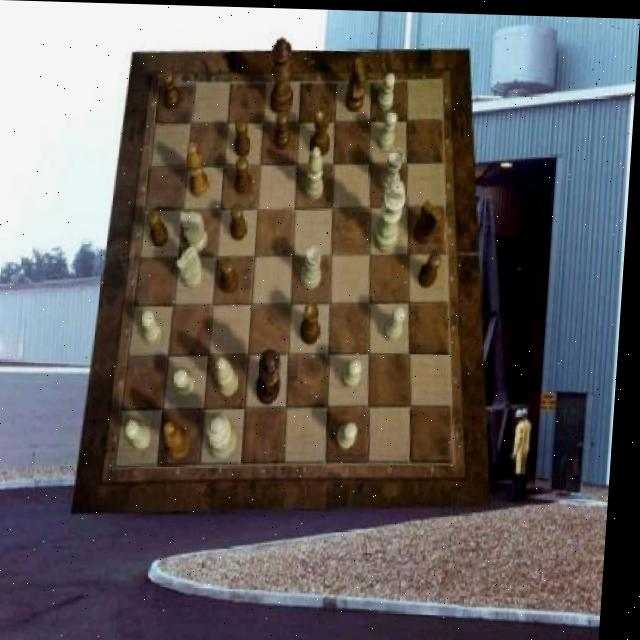bishop: (185, 140, 213, 195), (168, 420, 197, 458)
black-bishop: (260, 345, 287, 403)
black-king: (414, 198, 444, 244), (346, 56, 368, 111)
black-knight: (147, 208, 172, 247), (161, 68, 183, 109), (420, 249, 445, 284), (237, 155, 257, 194), (234, 116, 254, 155), (223, 256, 244, 291), (275, 110, 293, 149), (232, 203, 251, 239)
black-pawn: (268, 36, 298, 114)
black-queen: (311, 108, 333, 156), (303, 301, 326, 344)
black-rook: (308, 144, 328, 199), (220, 357, 245, 397)
white-bishop: (376, 177, 410, 250)
white-king: (177, 243, 207, 288), (181, 211, 210, 251)
white-knight: (144, 309, 169, 344), (386, 303, 409, 340), (130, 419, 158, 449), (378, 109, 399, 149), (379, 71, 398, 109), (176, 369, 201, 397), (342, 419, 363, 447), (346, 358, 366, 386)
white-pawn: (210, 410, 243, 458)
white-queen: (380, 146, 405, 193), (303, 243, 326, 287)
